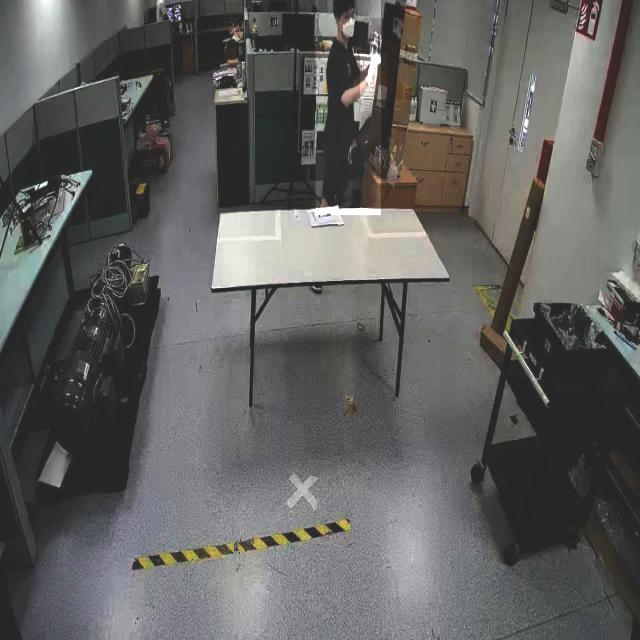face_mask: (338, 5, 358, 52)
hand_glove: (359, 52, 387, 100)
head_nohelmet: (332, 0, 357, 6)
person: (315, 0, 381, 216)
